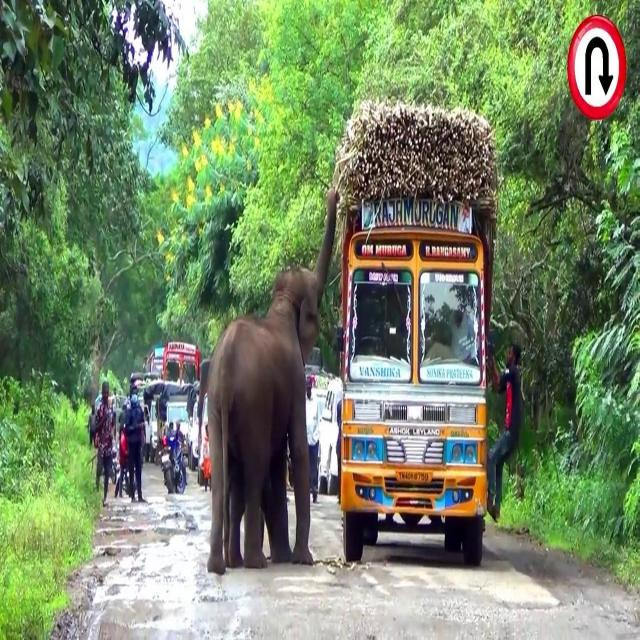Elephant: (205, 188, 337, 575)
